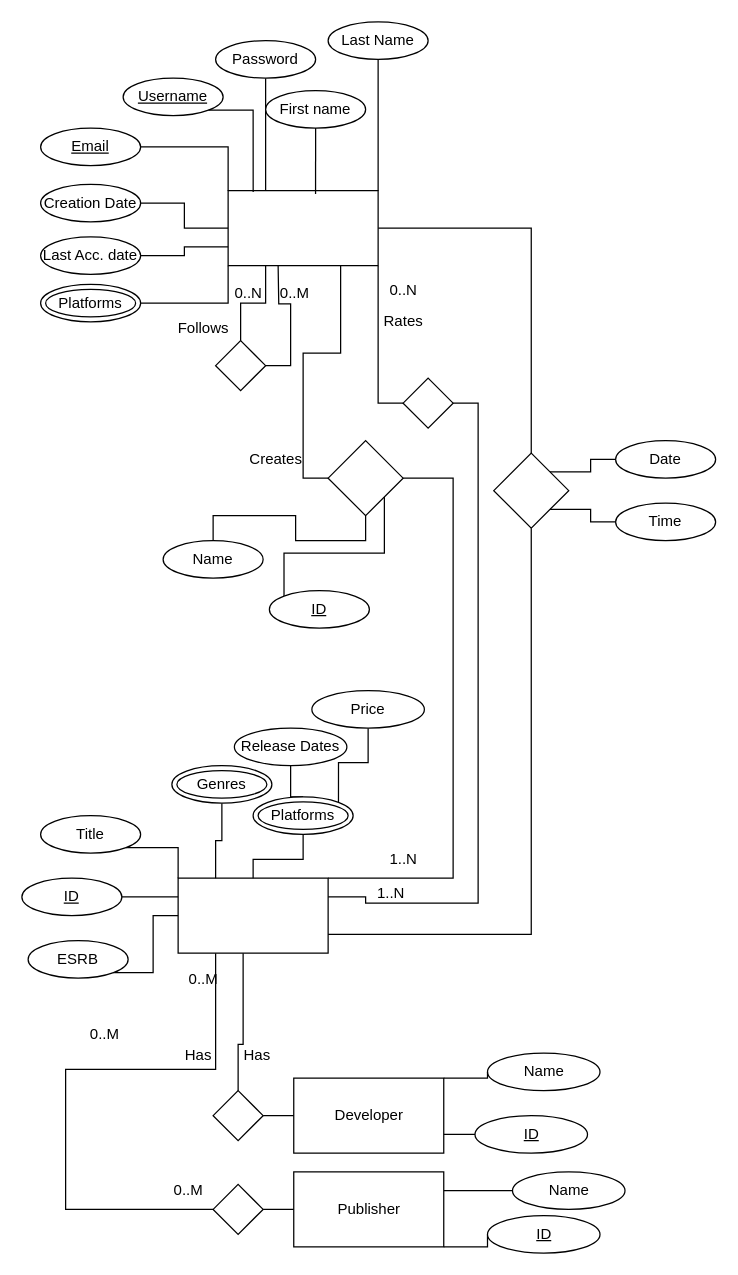
This 738x1275 diagram has some shape labels left out. Here are the shapes that lost their labels. From the top down, the centre of each, then its label:
point 302,227: User
point 365,477: Collection
point 530,490: Playtime
point 252,915: Video Game
